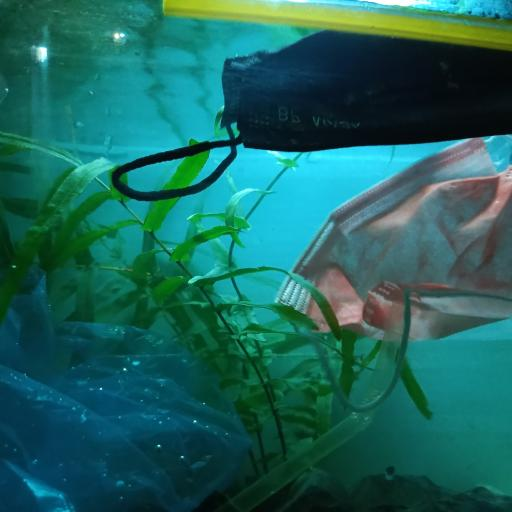mask: (112, 28, 512, 201), (279, 138, 512, 410)
plastic_bag: (2, 262, 258, 512)
plastic_straw: (215, 292, 413, 512), (159, 0, 512, 54)
